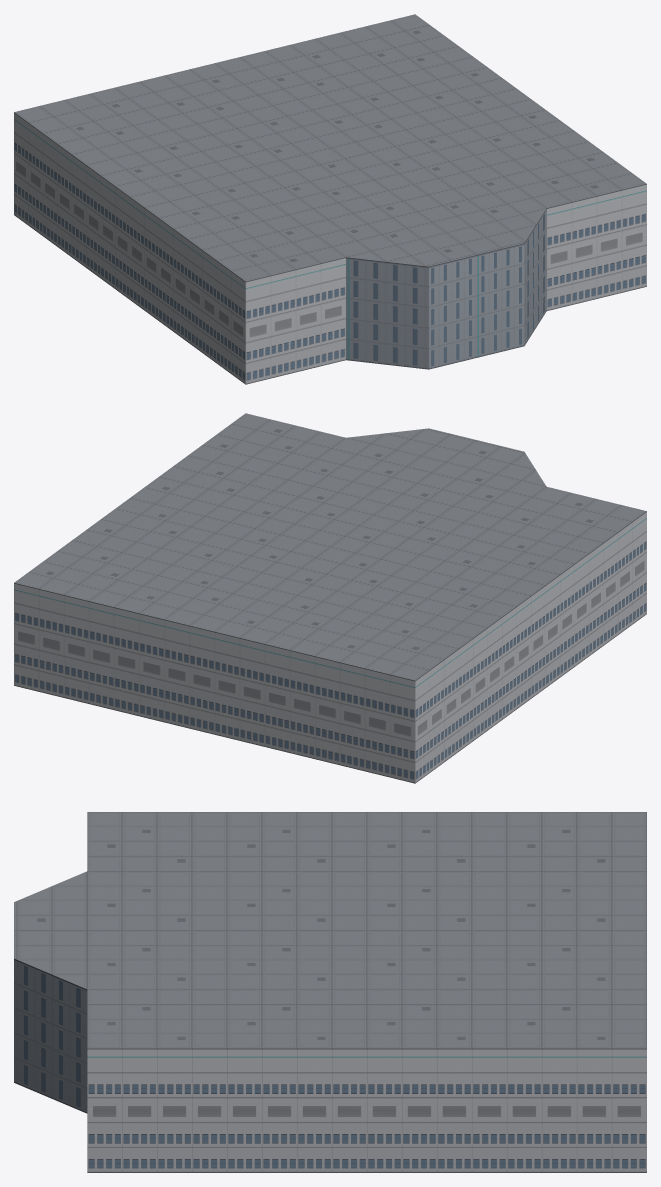
The model's file is BLD_POD_EdgeHalf.fbx.
The picture shows the model from 3 angles, top to bottom: view 1: azimuth 30°, elevation 25°; view 2: azimuth 150°, elevation 25°; view 3: azimuth 270°, elevation 25°; orthographic projection. The views are drawn at different scales.
Parts seen in each view (by area): view 1: BLD_POD_EdgeHalf; view 2: BLD_POD_EdgeHalf; view 3: BLD_POD_EdgeHalf.
Part boxes in pixels (x1,y1,x2,y2): BLD_POD_EdgeHalf: (14, 14, 646, 384); BLD_POD_EdgeHalf: (14, 413, 646, 783); BLD_POD_EdgeHalf: (14, 812, 646, 1172).
Bounding box in the file's own units: 100 × 24.5 × 113.
